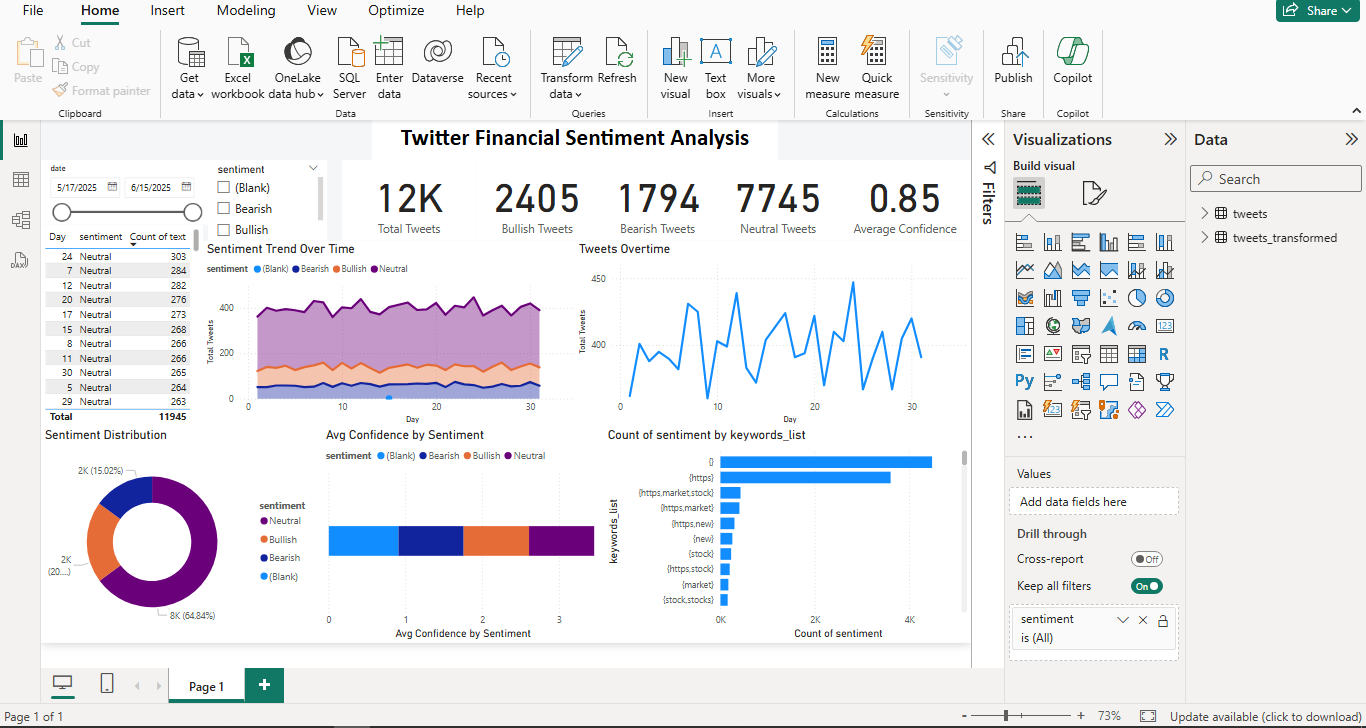

What the dashboard file says about the page in this screenshot:
{"tool":"powerbi","page":{"name":"Page 1","canvas":[1280,720],"ordinal":0},"visuals":[{"type":"card","fields":{"Values":["tweets_transformed.Total Tweets"]},"box":[414.3,55.1,184.4,111.5],"z":0},{"type":"card","fields":{"Values":["tweets_transformed.Bullish Tweets"]},"box":[598.7,55.1,167.9,111.5],"z":1000},{"type":"card","fields":{"Values":["tweets_transformed.Bearish Tweets"]},"box":[766.6,55.1,163.8,111.5],"z":2000},{"type":"card","fields":{"Values":["tweets_transformed.Neutral Tweets"]},"box":[930.4,55.1,167.9,111.5],"z":3000},{"type":"card","fields":{"Values":["tweets_transformed.Average Confidence"]},"box":[1098.3,55.1,181.7,111.5],"z":4000},{"type":"stackedAreaChart","title":" Sentiment Trend Over Time","fields":{"Category":["tweets_transformed.date.Variation.Date Hierarchy.Day"],"Series":["tweets_transformed.sentiment"],"Y":["tweets_transformed.Total Tweets"]},"box":[223,166.5,529.9,256],"z":5000},{"type":"barChart","title":"Avg Confidence by Sentiment ","fields":{"Series":["tweets_transformed.sentiment"],"Y":["tweets_transformed.Avg Confidence by Sentiment"]},"box":[386.8,422.5,388.1,297.3],"z":6000},{"type":"donutChart","title":"Sentiment Distribution ","fields":{"Category":["tweets_transformed.sentiment"],"Y":["tweets_transformed.Total Tweets"]},"box":[0,422.5,386.8,297.3],"z":7000},{"type":"barChart","fields":{"Y":["CountNonNull(tweets_transformed.sentiment)"],"Category":["tweets_transformed.keywords_list"]},"box":[774.9,422.5,505.1,297.3],"z":8000},{"type":"tableEx","title":" Tweets by Sentiment and Day","fields":{"Values":["tweets_transformed.date.Variation.Date Hierarchy.Day","tweets_transformed.sentiment","CountNonNull(tweets_transformed.text)"]},"box":[0,134.9,223,297.3],"z":9000},{"type":"lineChart","title":"Tweets Overtime ","fields":{"Category":["tweets_transformed.date.Variation.Date Hierarchy.Day"],"Y":["tweets_transformed.Total Tweets"]},"box":[735,166.5,545,256],"z":10000},{"type":"slicer","fields":{"Values":["tweets_transformed.sentiment"]},"box":[229.8,55.1,163.8,111.5],"z":11000},{"type":"textbox","box":[455.6,0,558.8,55.1],"z":12000},{"type":"slicer","fields":{"Values":["tweets_transformed.date"]},"box":[0,55.1,229.8,111.5],"z":12001}]}

Visuals, with their boxes on the page's 1280x720 design canvas (x1, y1, x2, y2). These are canvas units, not pixel positions in the 1366x728 screenshot, which may show the page scaled, cropped or inside an application window:
card - tweets_transformed.Total Tweets: left=414, top=55, right=599, bottom=167
card - tweets_transformed.Bullish Tweets: left=599, top=55, right=767, bottom=167
card - tweets_transformed.Bearish Tweets: left=767, top=55, right=930, bottom=167
card - tweets_transformed.Neutral Tweets: left=930, top=55, right=1098, bottom=167
card - tweets_transformed.Average Confidence: left=1098, top=55, right=1280, bottom=167
" Sentiment Trend Over Time" stackedAreaChart: left=223, top=166, right=753, bottom=422
"Avg Confidence by Sentiment " barChart: left=387, top=422, right=775, bottom=720
"Sentiment Distribution " donutChart: left=0, top=422, right=387, bottom=720
barChart - CountNonNull(tweets_transformed.sentiment) x tweets_transformed.keywords_list: left=775, top=422, right=1280, bottom=720
" Tweets by Sentiment and Day" tableEx: left=0, top=135, right=223, bottom=432
"Tweets Overtime " lineChart: left=735, top=166, right=1280, bottom=422
slicer - tweets_transformed.sentiment: left=230, top=55, right=394, bottom=167
textbox: left=456, top=0, right=1014, bottom=55
slicer - tweets_transformed.date: left=0, top=55, right=230, bottom=167
